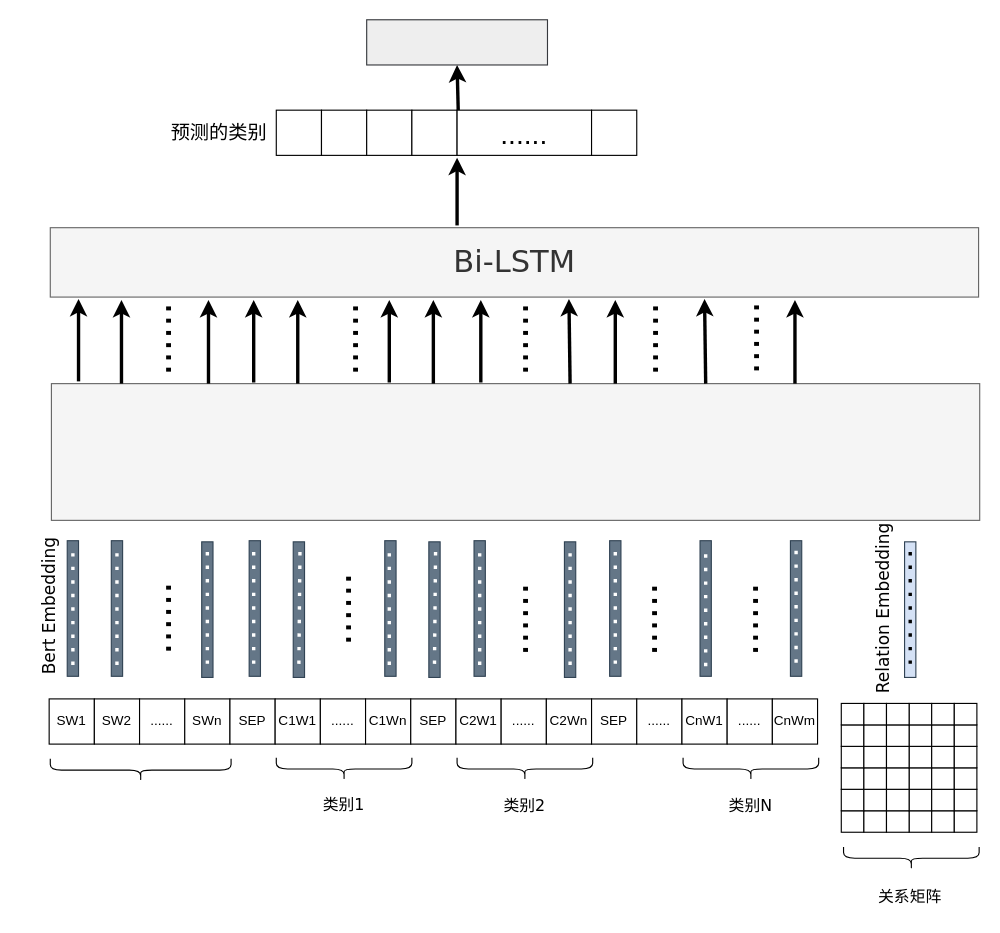
The diagram is 1000 pixels wide and 933 high, and some of its shapes have lost their labels. Here are the shapes that lost their labels. From the top down, the centre of each, then its label:
point 456,42: Loss
point 515,451: Relation Aware Self-Attention Network
point 140,769: 待分类文本
